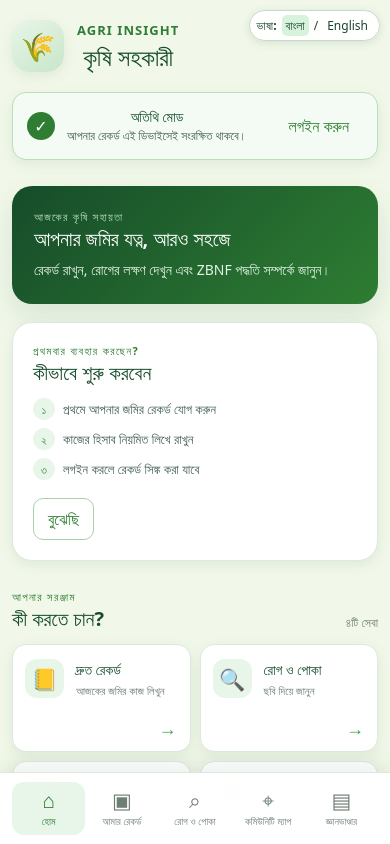
guest mode routing › explains guest data storage and offers a dismissible onboarding guide
Check: the message "✓ অতিথি মোড আপনার রেকর্ড এই ডিভাইসেই সংরক্ষিত থাকবে। লগইন করুন" is shown, box [12, 92, 378, 160]
Check: the text "আপনার রেকর্ড এই ডিভাইসেই সংরক্ষিত থাকবে।" is shown, box [67, 128, 247, 145]
Click the button "বুঝেছি" at (64, 519), box [33, 498, 94, 540]
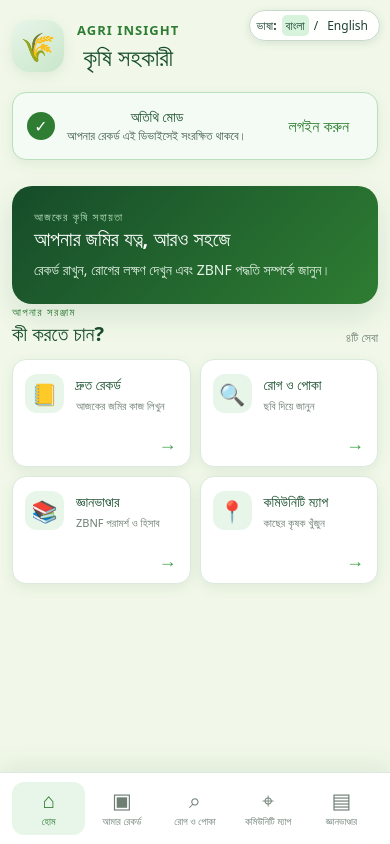
Check: the heading "কীভাবে শুরু করবেন" is gone
